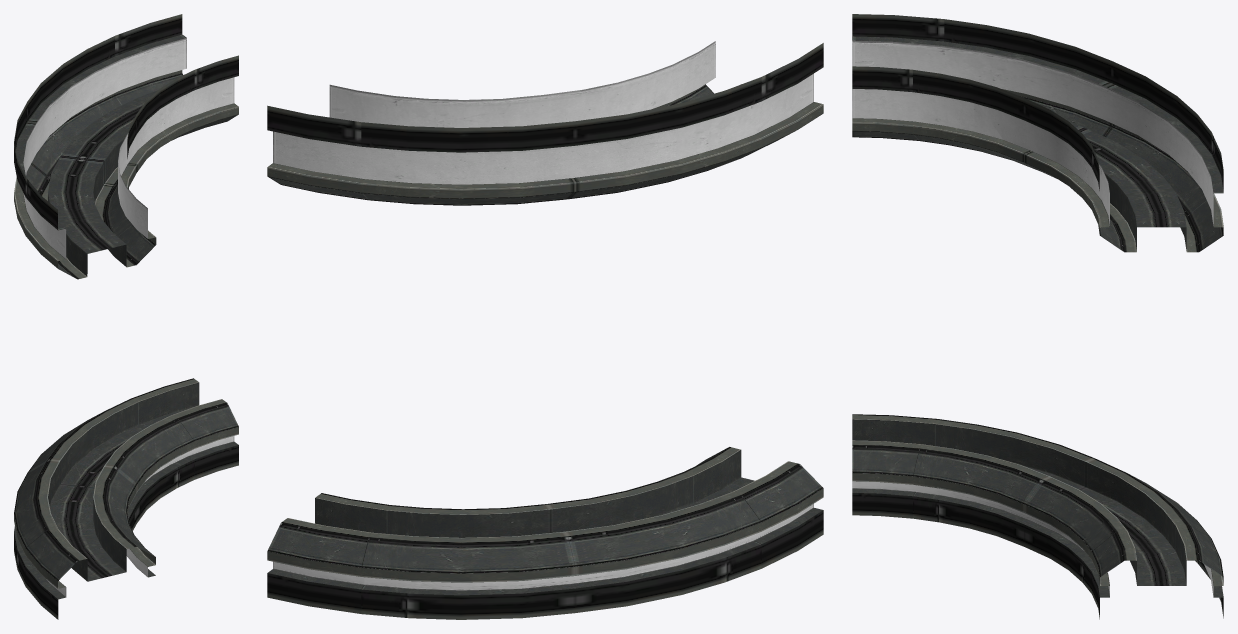
File: Neon_WindowFrameBendC.FBX
3 renders of one model, left to right at view 1: azimuth 30°, elevation 25°; view 2: azimuth 150°, elevation 25°; view 3: azimuth 270°, elevation 25°, orthographic. The views are drawn at different scales.
Visible parts, largest first — view 1: Neon_WindowFrameBendC; view 2: Neon_WindowFrameBendC; view 3: Neon_WindowFrameBendC.
Boxes of the visible parts, <box> form: Neon_WindowFrameBendC: <box>14,14,238,619</box>; Neon_WindowFrameBendC: <box>267,41,823,619</box>; Neon_WindowFrameBendC: <box>852,14,1223,619</box>.
Size of the model in its own units: 3 by 4 by 3.
